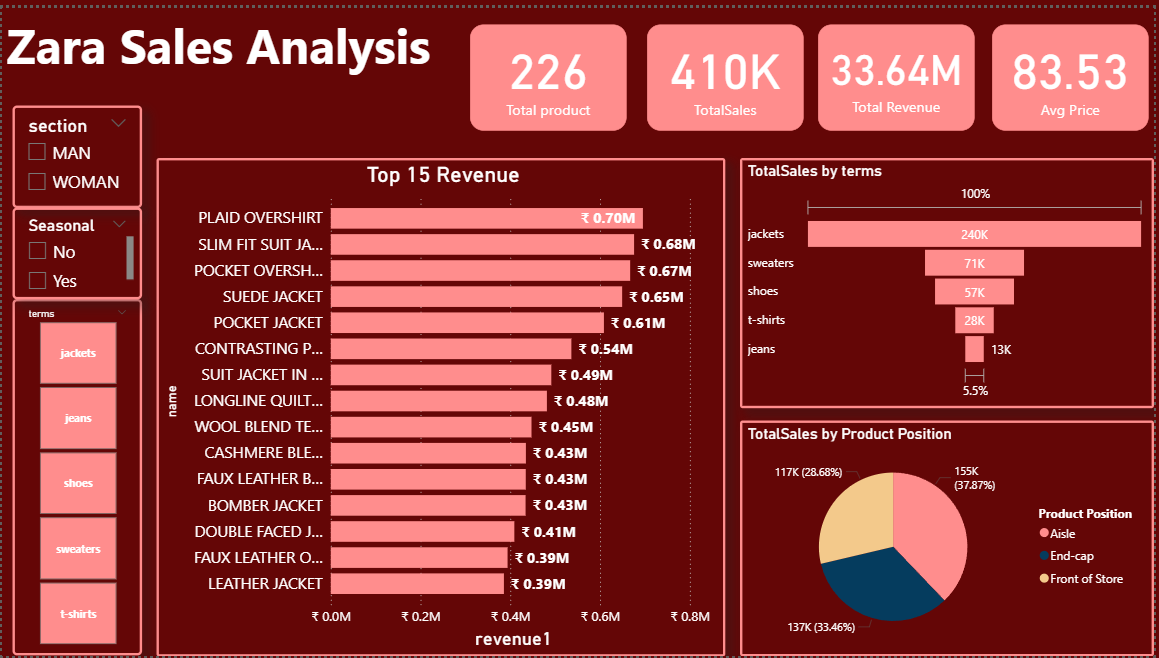

What the dashboard file says about the page in this screenshot:
{"tool":"powerbi","page":{"name":"Page 2","canvas":[1280,720],"ordinal":1},"visuals":[{"type":"barChart","title":"Top 15 Revenue","fields":{"Category":["Zara_Sales_Analysis.name"],"Y":["Zara_Sales_Analysis.revenue1"]},"box":[172,166,632,554],"z":2000},{"type":"card","fields":{"Values":["Zara_Sales_Analysis.TotalSales"]},"box":[716,18,174,118],"z":2001},{"type":"card","fields":{"Values":["Zara_Sales_Analysis.Total Revenue"]},"box":[906,18,174,118],"z":2002},{"type":"card","fields":{"Values":["Zara_Sales_Analysis.Avg Price"]},"box":[1100,18,174,118],"z":2003},{"type":"card","fields":{"Values":["Zara_Sales_Analysis.Total product"]},"box":[520,18,174,118],"z":2004},{"type":"textbox","box":[0,0,494,118],"z":2005},{"type":"slicer","fields":{"Values":["Zara_Sales_Analysis.section"]},"box":[12,108,144,114],"z":2006},{"type":"slicer","fields":{"Values":["Zara_Sales_Analysis.terms"]},"box":[12,324,144,396],"z":2007},{"type":"slicer","fields":{"Values":["Zara_Sales_Analysis.Seasonal"]},"box":[12,222,144,102],"z":2008},{"type":"funnel","fields":{"Category":["Zara_Sales_Analysis.terms"],"Y":["Zara_Sales_Analysis.TotalSales"]},"box":[820,166,460,278],"z":2009},{"type":"pieChart","fields":{"Category":["Zara_Sales_Analysis.Product Position"],"Y":["Zara_Sales_Analysis.TotalSales"]},"box":[820,458,460,262],"z":2010}]}

Visuals, with their boxes in screenshot pixels (x1, y1, x2, y2), scaled from the page's 1280x720 canvas onto the 1159x658 screenshot:
"Top 15 Revenue" barChart: box(156, 152, 728, 657)
card - Zara_Sales_Analysis.TotalSales: box(648, 16, 806, 124)
card - Zara_Sales_Analysis.Total Revenue: box(820, 16, 978, 124)
card - Zara_Sales_Analysis.Avg Price: box(996, 16, 1154, 124)
card - Zara_Sales_Analysis.Total product: box(471, 16, 628, 124)
textbox: box(0, 0, 447, 108)
slicer - Zara_Sales_Analysis.section: box(11, 99, 141, 203)
slicer - Zara_Sales_Analysis.terms: box(11, 296, 141, 657)
slicer - Zara_Sales_Analysis.Seasonal: box(11, 203, 141, 296)
funnel - Zara_Sales_Analysis.terms x Zara_Sales_Analysis.TotalSales: box(742, 152, 1158, 406)
pieChart - Zara_Sales_Analysis.Product Position x Zara_Sales_Analysis.TotalSales: box(742, 419, 1158, 657)
